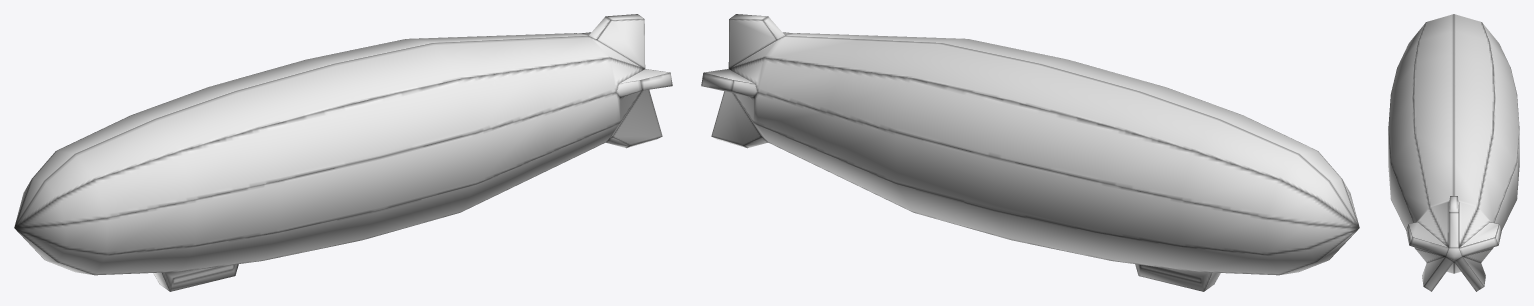
The model's file is Zeppelin-01.fbx.
3 renders of one model, left to right at view 1: azimuth 30°, elevation 25°; view 2: azimuth 150°, elevation 25°; view 3: azimuth 270°, elevation 25°, orthographic. The views are drawn at different scales.
Visible parts, largest first — view 1: Zeppelin-01; view 2: Zeppelin-01; view 3: Zeppelin-01.
Boxes of the visible parts, x1,y1,x2,y2 form: Zeppelin-01: [14, 14, 672, 291]; Zeppelin-01: [701, 14, 1359, 291]; Zeppelin-01: [1388, 14, 1519, 291].
Size of the model in its own units: 4 by 1.1 by 1.
